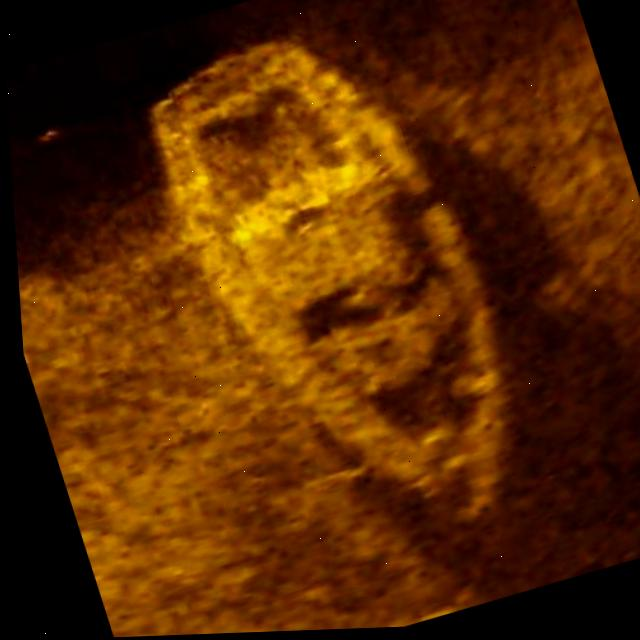shipwreck: (114, 0, 559, 591)
